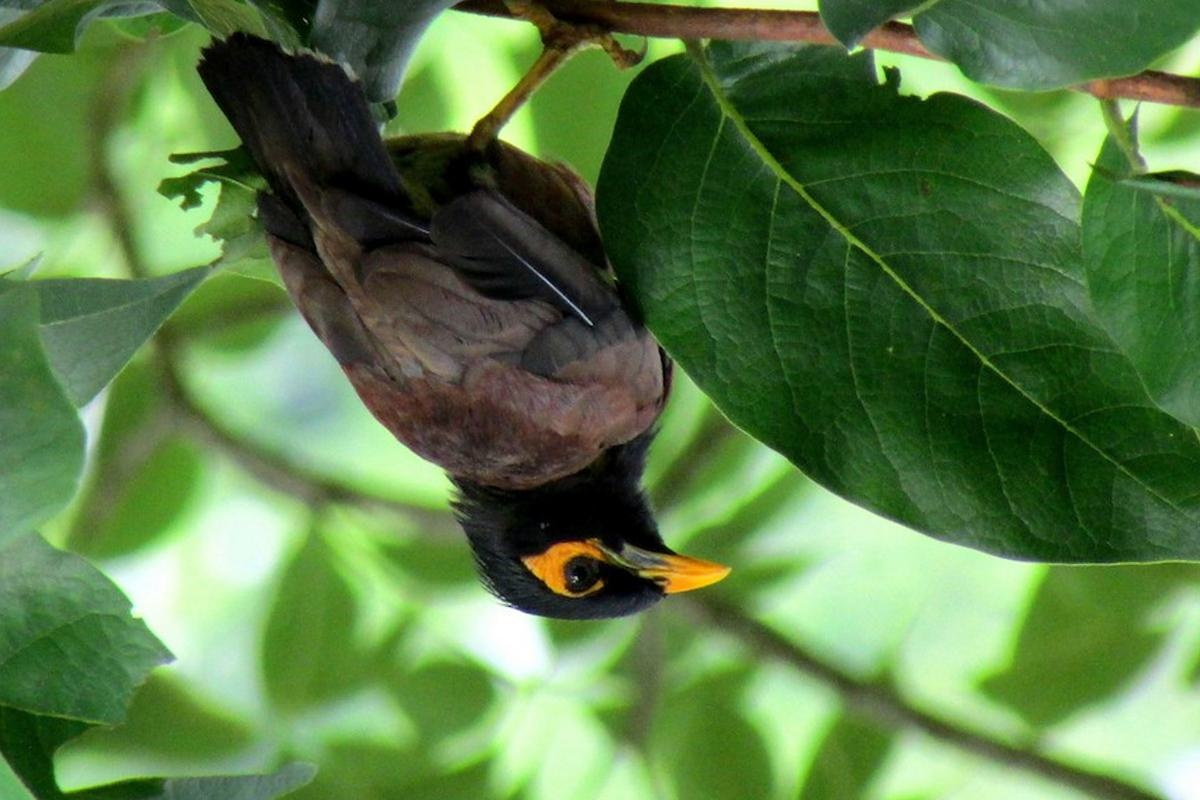myna: (195, 57, 750, 640)
